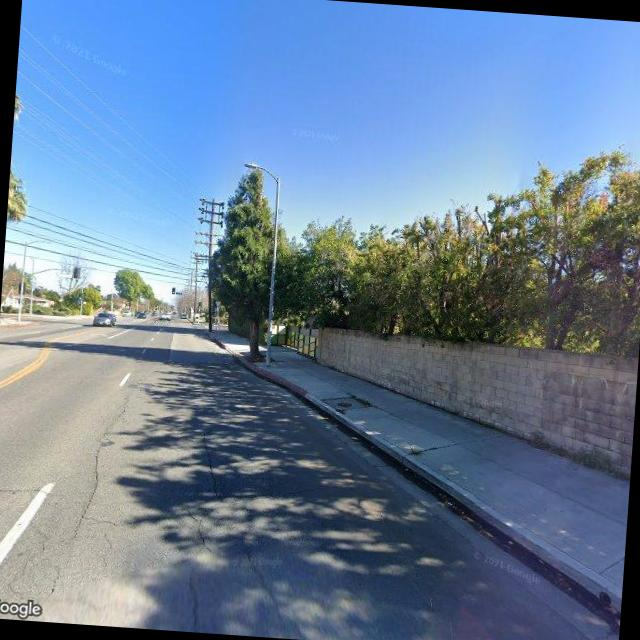crack: (74, 394, 130, 546), (191, 420, 226, 502), (177, 502, 216, 554), (0, 476, 54, 510), (44, 560, 64, 598)
